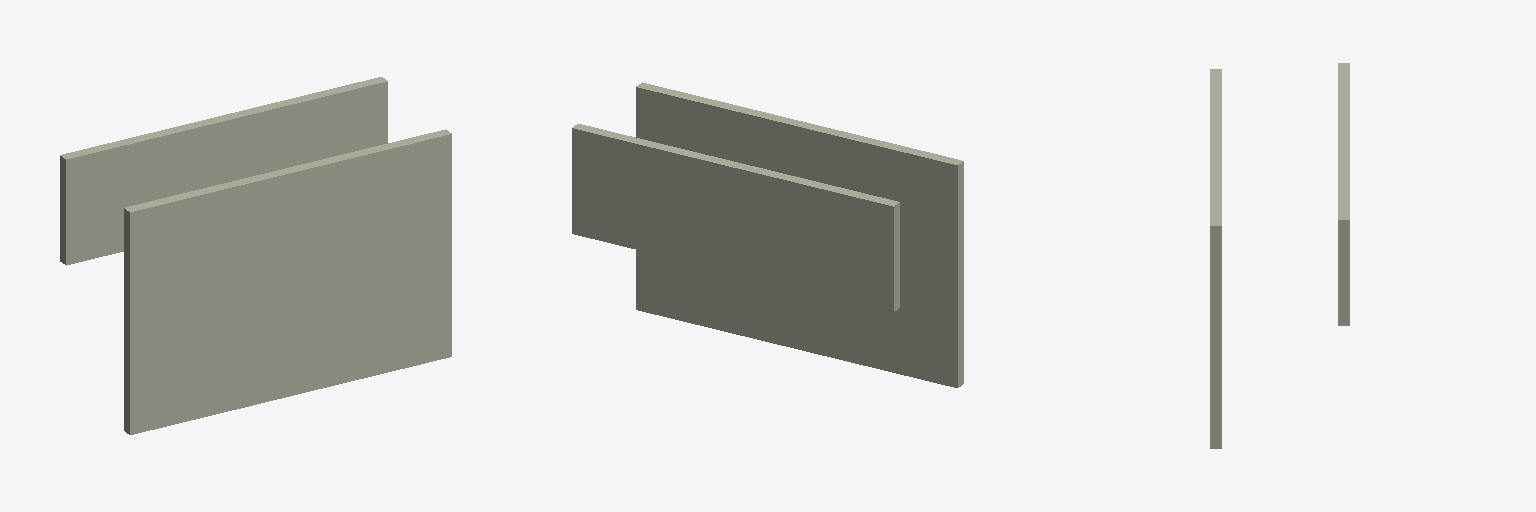
The model's file is BIROCENTRALa.obj.
The picture shows the model from 3 angles: view 1: azimuth 30°, elevation 25°; view 2: azimuth 150°, elevation 25°; view 3: azimuth 270°, elevation 25°; orthographic projection.
Visible parts, largest first — view 1: Circle; view 2: Circle; view 3: Circle.
Part boxes in pixels (left/top/right/bottom): Circle: left=60, top=77, right=451, bottom=434; Circle: left=572, top=82, right=963, bottom=387; Circle: left=1210, top=63, right=1349, bottom=448.
Size of the model in its own units: 8.8 by 5.97 by 3.33.